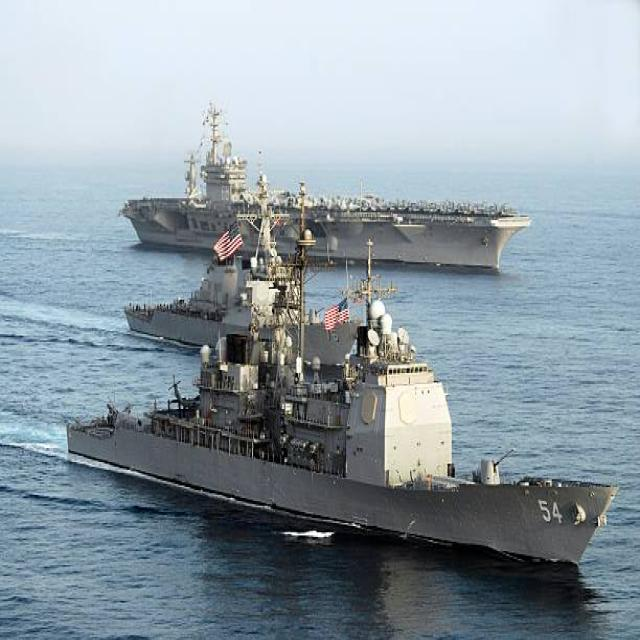Military: (64, 309, 618, 565), (121, 123, 532, 270), (124, 262, 251, 353), (303, 306, 360, 361)
